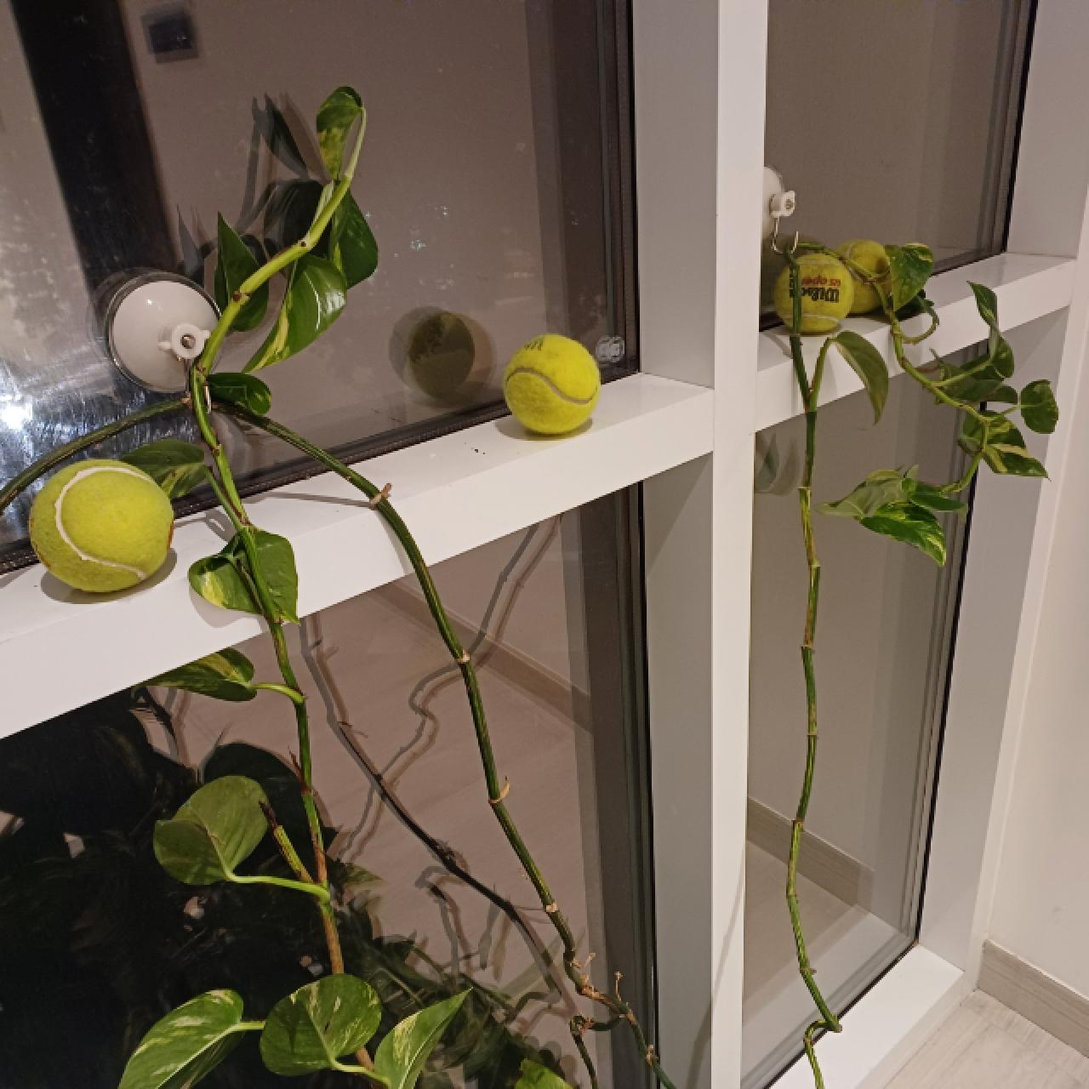tennis-ball: (30, 456, 176, 595), (503, 334, 600, 436), (774, 251, 856, 334), (823, 237, 894, 317)
